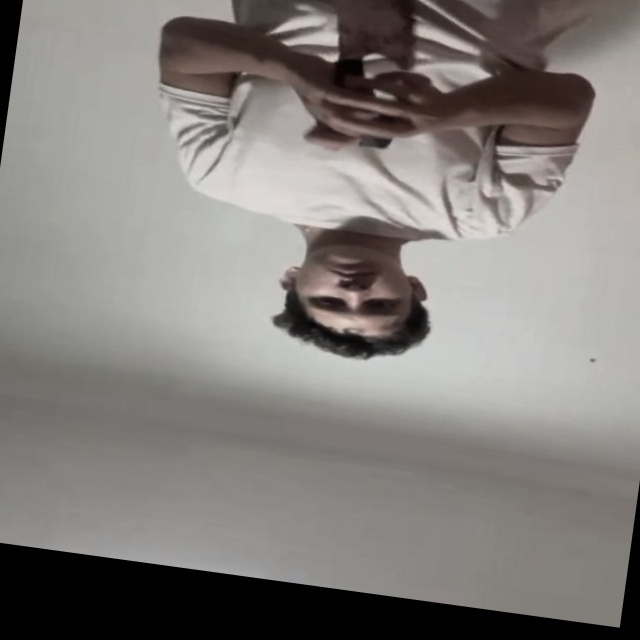Sharp-Object: (307, 0, 432, 70)
